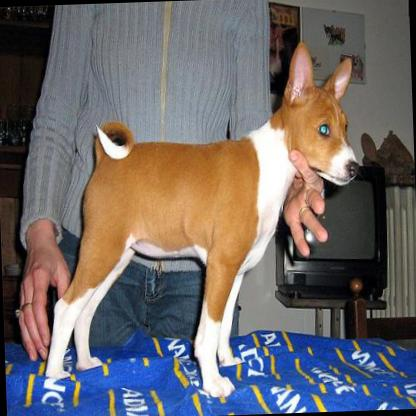basenji: (31, 39, 368, 404)
